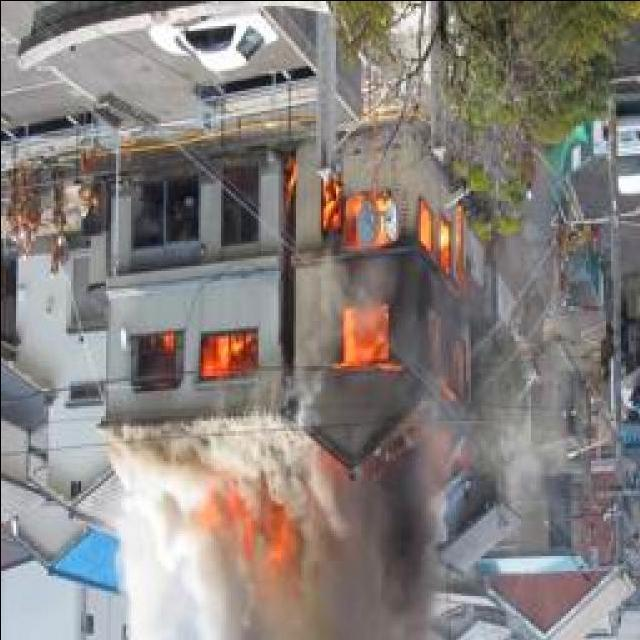Fire: (316, 157, 463, 437), (198, 486, 304, 600), (137, 318, 252, 371)
